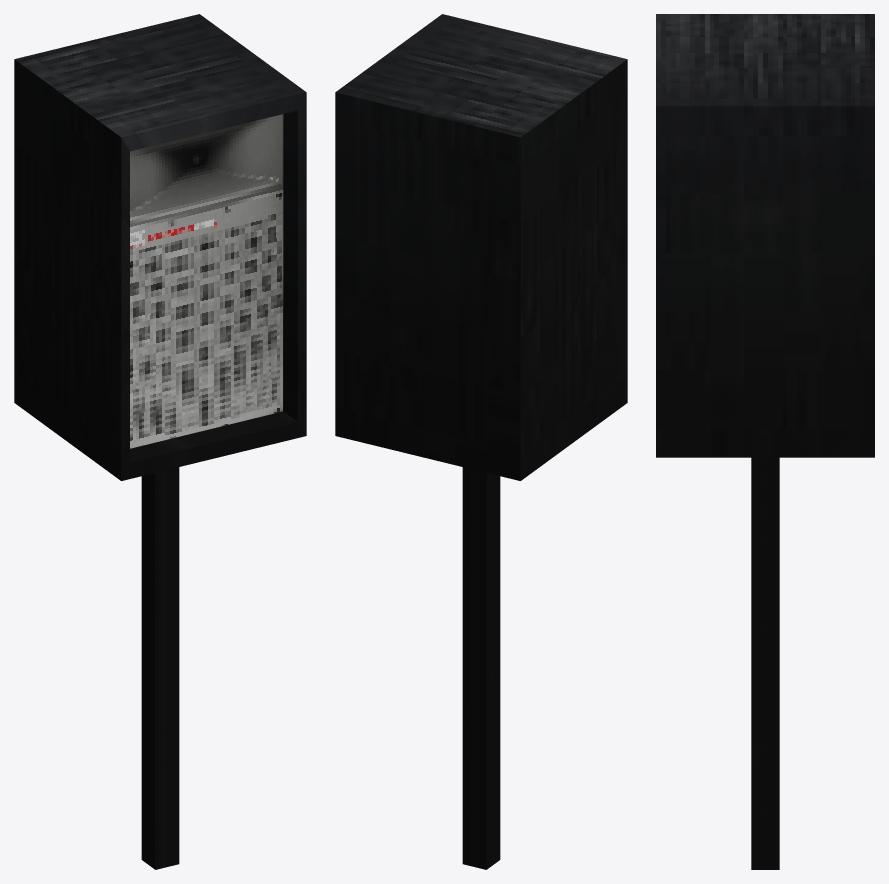
The model's file is clublspeaker.glb.
3 views of the same model, side by side, from view 1: azimuth 30°, elevation 25°; view 2: azimuth 150°, elevation 25°; view 3: azimuth 270°, elevation 25° (orthographic). The views are drawn at different scales.
Visible parts, largest first — view 1: SPEAKER.001; view 2: SPEAKER.001; view 3: SPEAKER.001.
Boxes of the visible parts, left/top/right/bottom form: SPEAKER.001: left=14, top=14, right=306, bottom=869; SPEAKER.001: left=335, top=14, right=627, bottom=869; SPEAKER.001: left=656, top=14, right=874, bottom=869.
Bounding box in the file's own units: 2 × 8.11 × 2.
2 materials, 2 textured.
